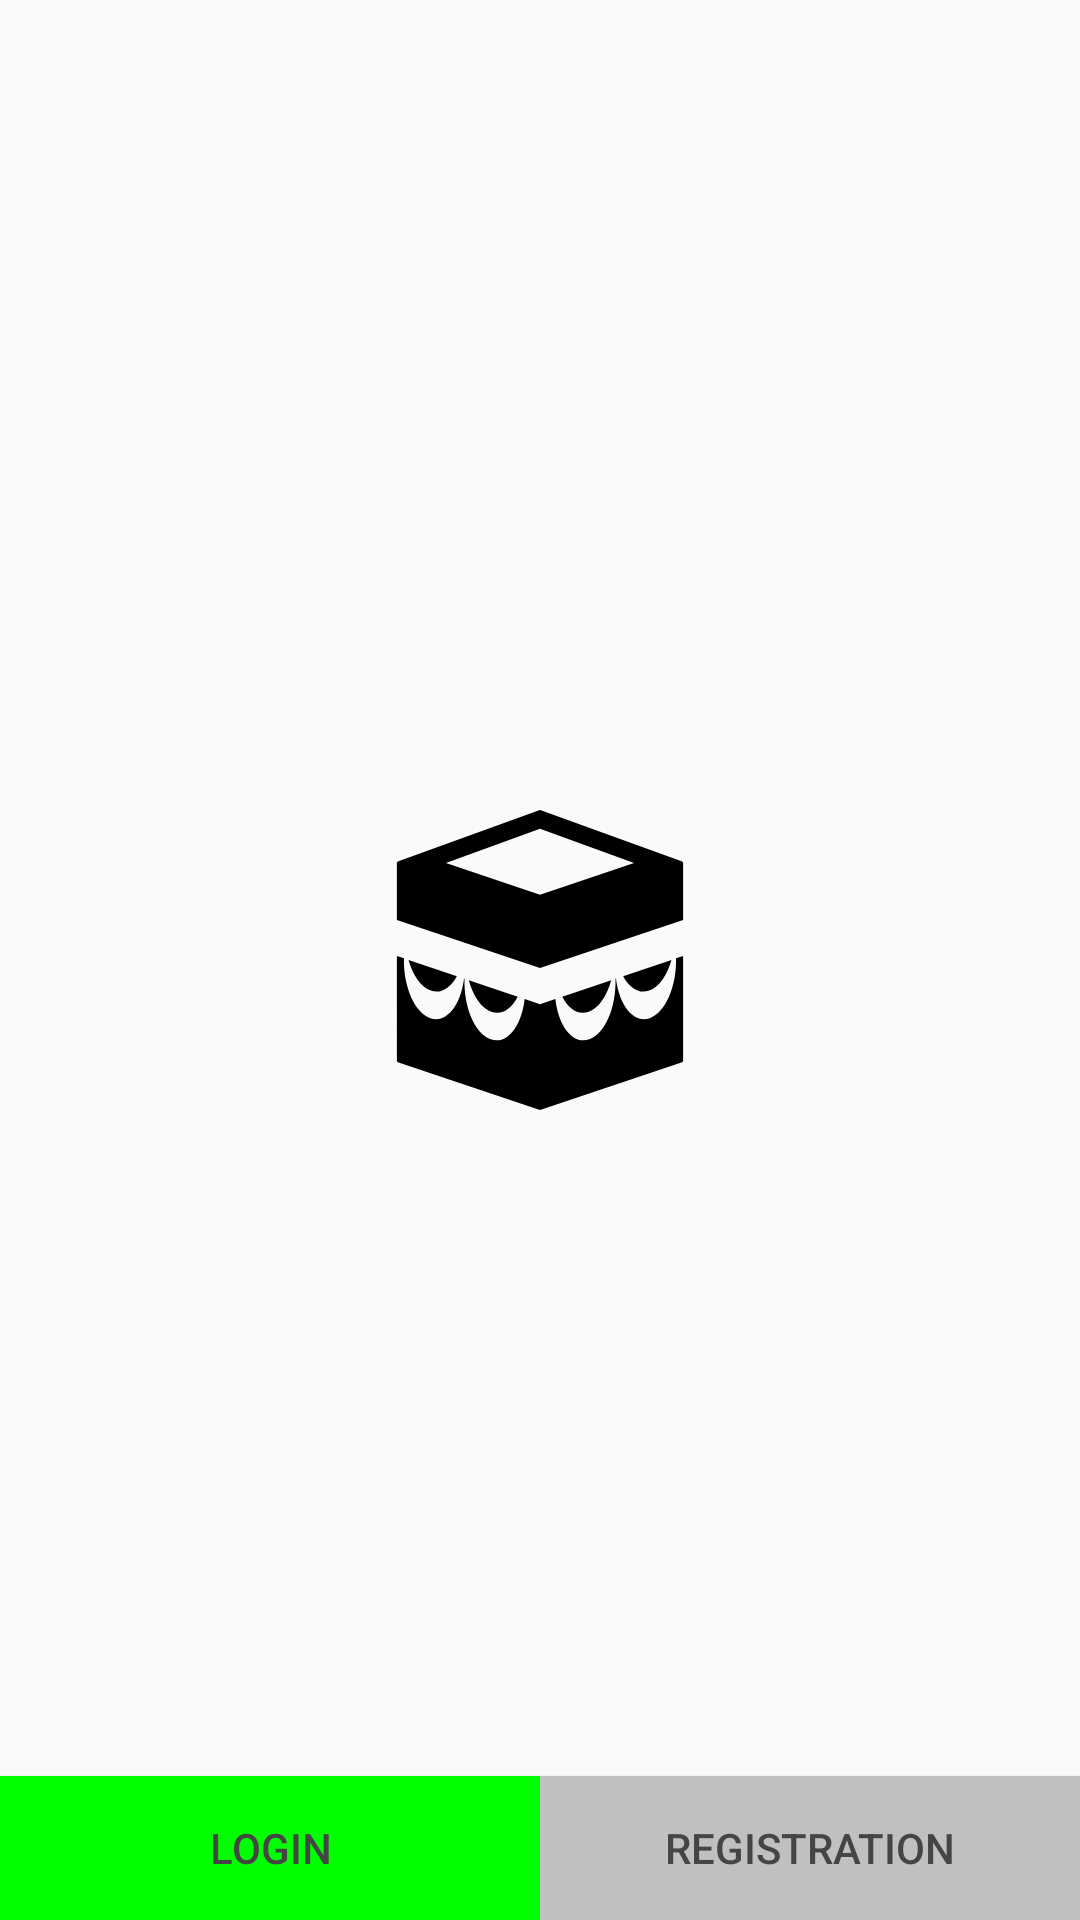

Named icons in this screenshot (1080w x 1920h) and their centers, (x,y):
kaaba: (540,960)
